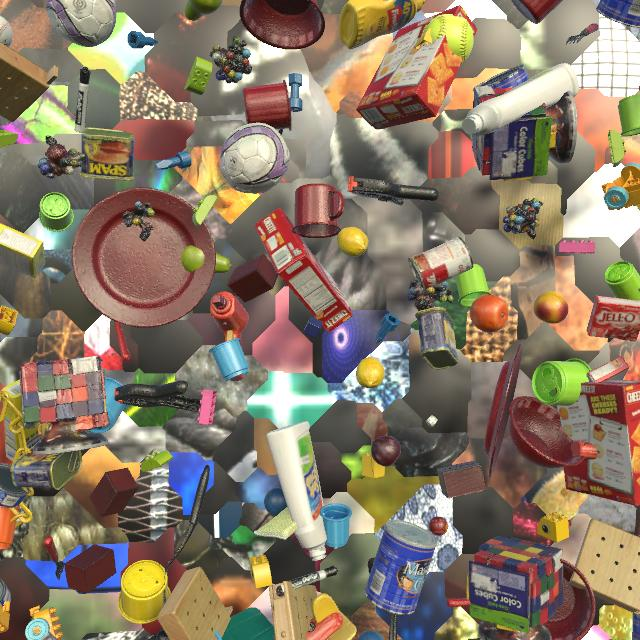ycb_002_master_chef_can: (364, 520, 438, 615), (473, 65, 529, 91), (596, 0, 640, 28), (632, 613, 640, 640)
ycb_003_cracker_box: (356, 5, 478, 129), (254, 208, 353, 333), (555, 379, 640, 506)
ycb_004_sugar_box: (1, 380, 41, 462), (0, 223, 45, 278)
ycb_005_tomato_soup_can: (408, 236, 473, 291)
ycb_006_mustard_bottle: (339, 0, 427, 49)
ycb_007_tuna_fish_can: (0, 463, 30, 508), (0, 579, 11, 606)
ycb_008_pudding_box: (41, 632, 59, 640)
ycb_009_gelatin_box: (586, 295, 640, 342), (586, 355, 630, 383), (639, 83, 640, 91)
ycb_010_potted_meat_can: (11, 445, 82, 490), (80, 127, 135, 181), (415, 307, 458, 369)
ycb_014_lemon: (337, 227, 368, 257), (356, 357, 385, 388)
ycb_015_peach: (533, 291, 569, 324), (385, 0, 387, 1)
ycb_016_pear: (181, 245, 232, 273), (184, 0, 222, 21)
ycb_017_orange: (470, 294, 509, 333)
ycb_018_plum: (371, 436, 401, 467)
